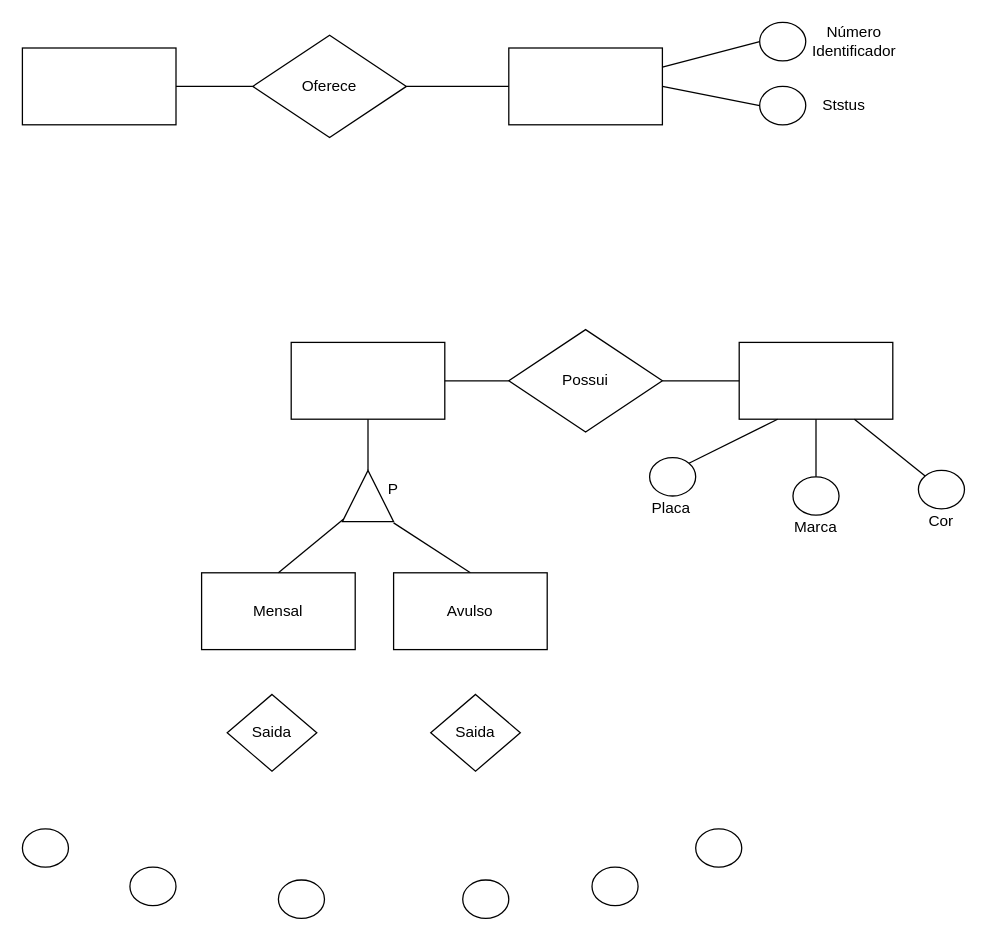
Image size: 989x941. Some labels were removed from this diagram. Each missing label, with the box of its shape:
Cliente: (290, 341, 445, 419)
Comprovante: (738, 341, 893, 419)
Estacionamento: (21, 47, 176, 125)
Vaga: (508, 47, 662, 125)
